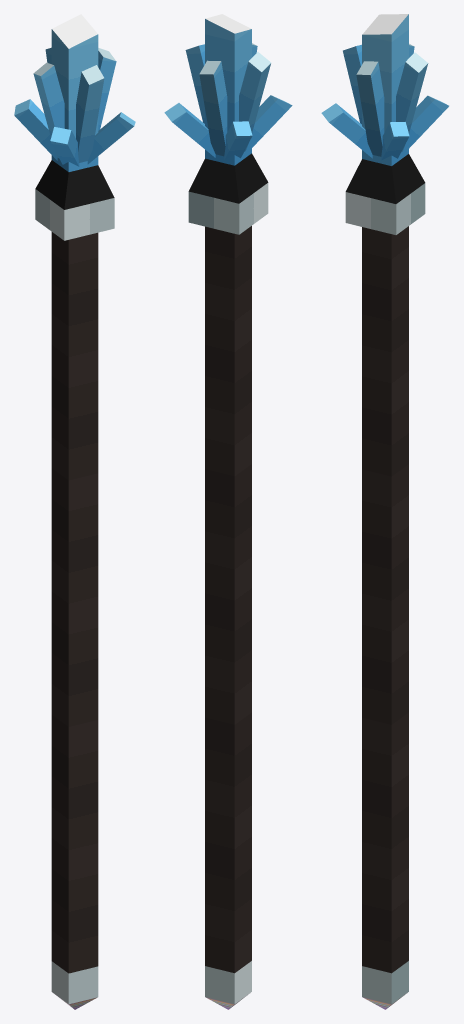
File: staff_blueice.obj
3 renders of one model, left to right at view 1: azimuth 30°, elevation 25°; view 2: azimuth 150°, elevation 25°; view 3: azimuth 330°, elevation 25°, orthographic.
Parts seen in each view (by area): view 1: STAFF_VAR20_Cube.011; view 2: STAFF_VAR20_Cube.011; view 3: STAFF_VAR20_Cube.011.
Boxes of the visible parts, bbox=[...] form: STAFF_VAR20_Cube.011: bbox=[14, 14, 135, 1009]; STAFF_VAR20_Cube.011: bbox=[164, 14, 292, 1009]; STAFF_VAR20_Cube.011: bbox=[321, 14, 448, 1009].
Size of the model in its own units: 0.1875 by 2 by 0.1875.
